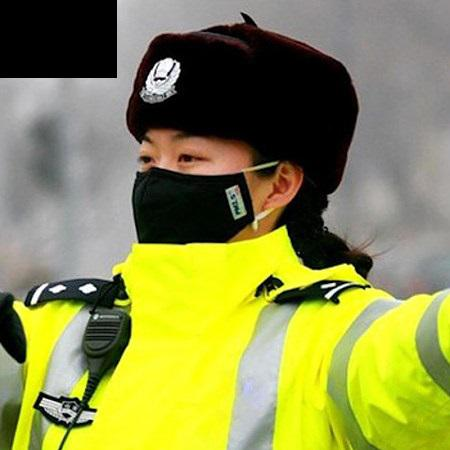OK: (127, 119, 285, 268)
